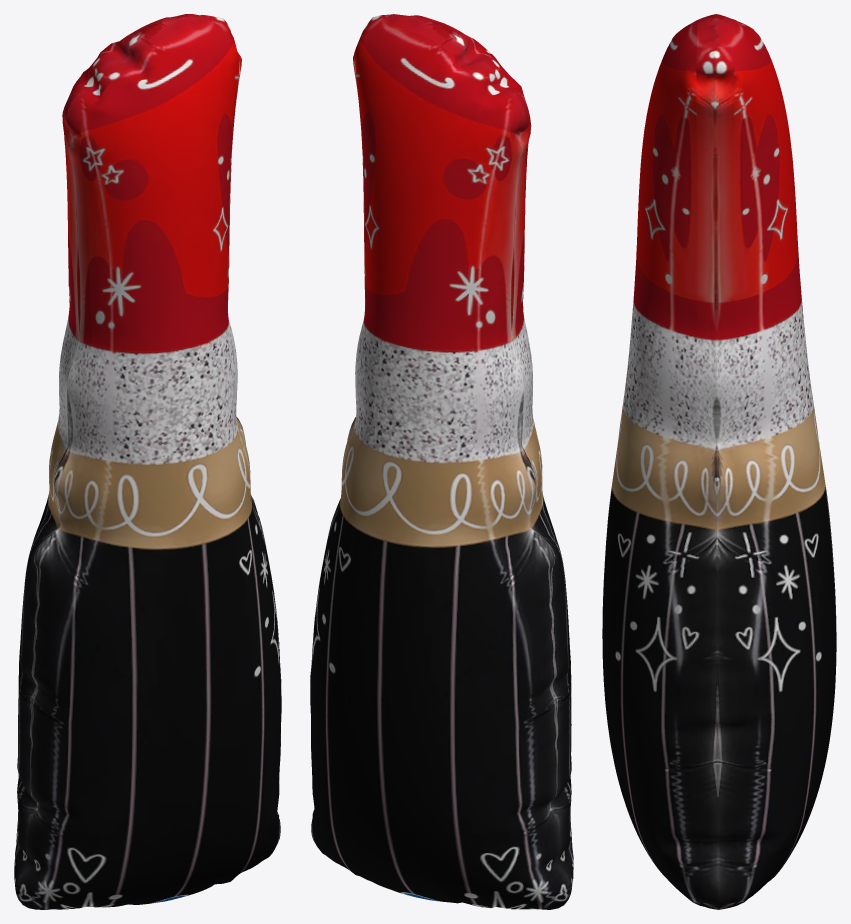
Rendered from Lipstick Foil Balloon.glb.
3 views of the same model, side by side, from view 1: azimuth 30°, elevation 25°; view 2: azimuth 150°, elevation 25°; view 3: azimuth 270°, elevation 25° (orthographic).
Visible parts, largest first — view 1: Foil_Balloon_lipstick1; view 2: Foil_Balloon_lipstick1; view 3: Foil_Balloon_lipstick1.
Boxes of the visible parts, x1,y1,x2,y2 form: Foil_Balloon_lipstick1: [14, 14, 281, 909]; Foil_Balloon_lipstick1: [310, 14, 573, 909]; Foil_Balloon_lipstick1: [602, 14, 836, 909].
Bounding box in the file's own units: 0.2242 × 0.7221 × 0.1771.
Materials: 1 (1 with a texture image).
